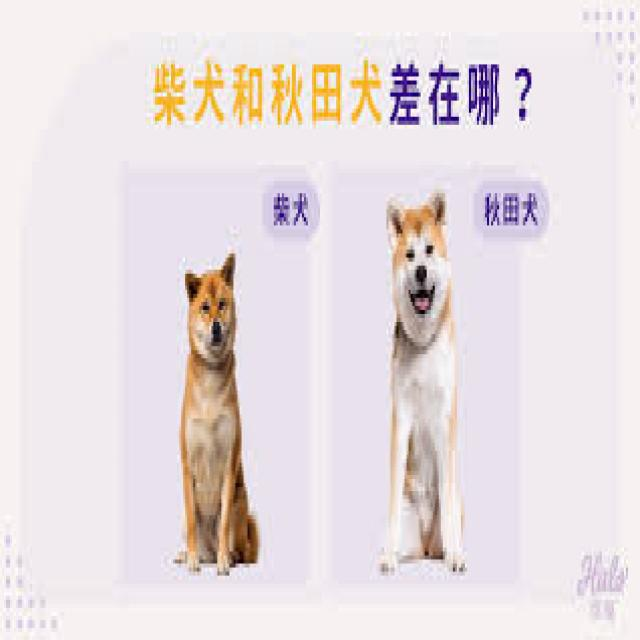Shiba-Inu: (174, 252, 263, 579)
